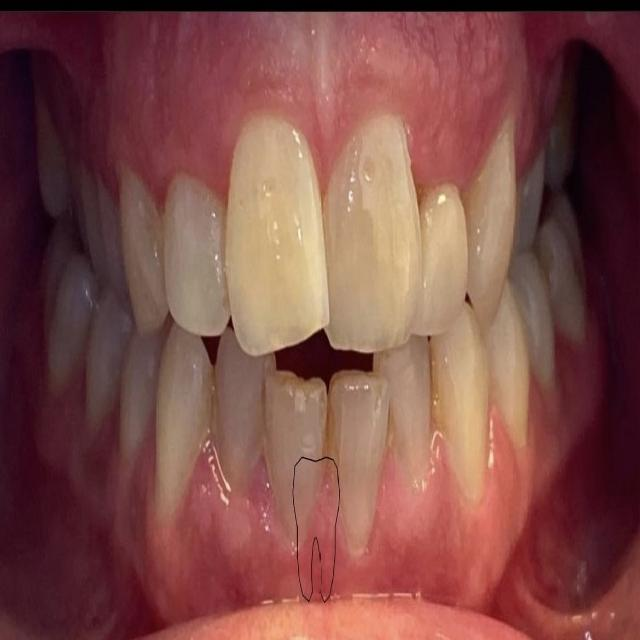tooth: (235, 90, 326, 349), (326, 109, 422, 348), (451, 112, 522, 312), (150, 166, 236, 327), (442, 330, 512, 505), (154, 337, 218, 518), (337, 378, 398, 548), (221, 330, 283, 490), (413, 171, 473, 334), (369, 346, 448, 464), (119, 169, 164, 331), (269, 389, 332, 502), (487, 314, 527, 445), (518, 272, 563, 383), (120, 328, 158, 454), (88, 291, 123, 413)
